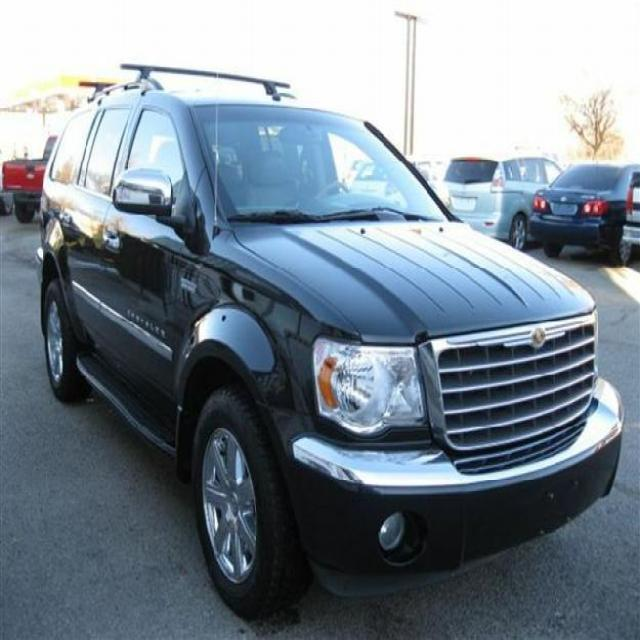car: (35, 64, 623, 621), (528, 161, 637, 263), (0, 135, 57, 222)
